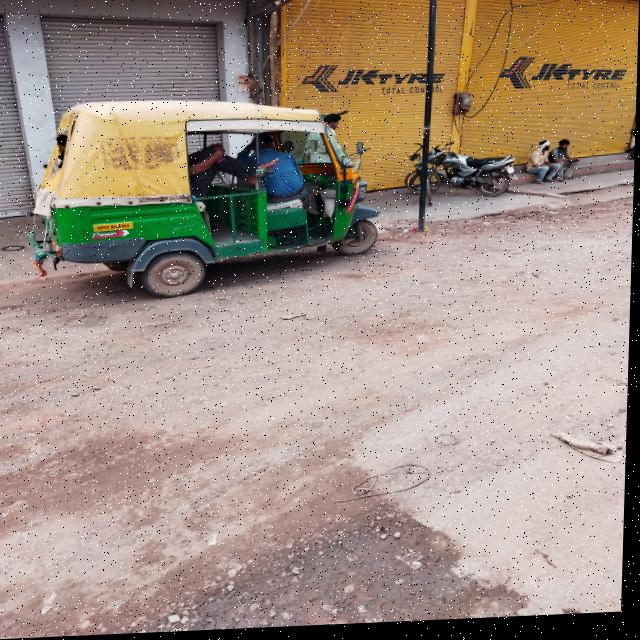plate: (90, 222, 141, 234)
